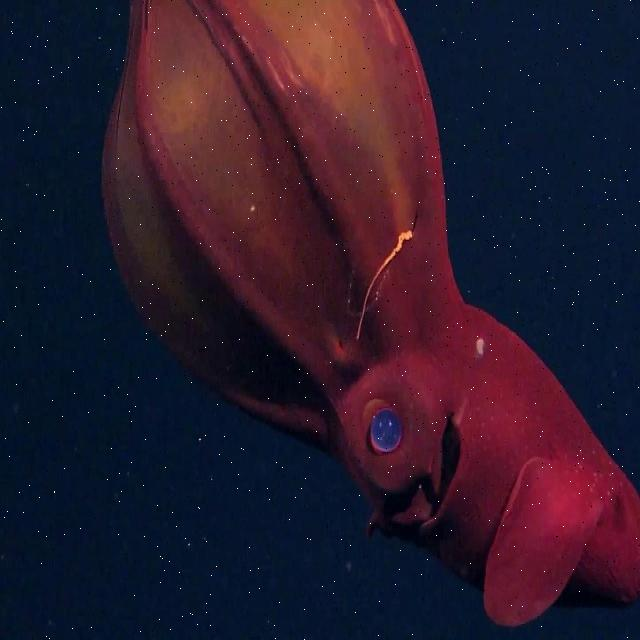reefs: (100, 1, 639, 636)
